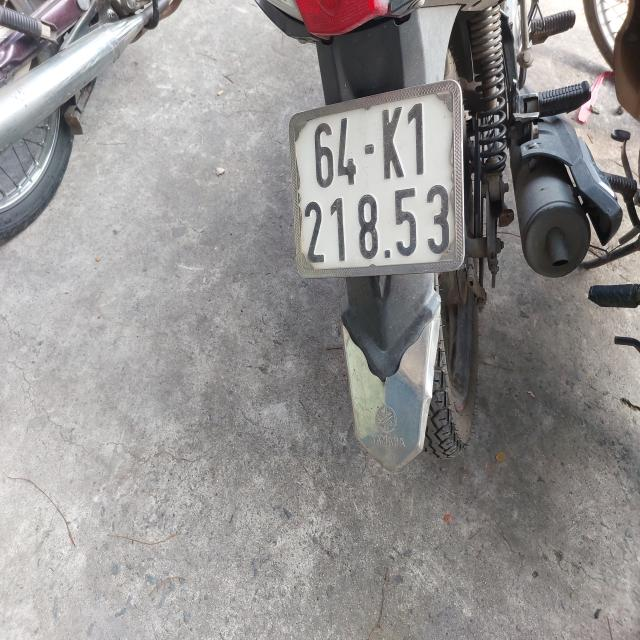1: (406, 100, 429, 175), (324, 194, 348, 265)
2: (302, 200, 328, 264)
4: (334, 116, 356, 189)
6: (311, 115, 337, 188)
K: (376, 104, 409, 182)
